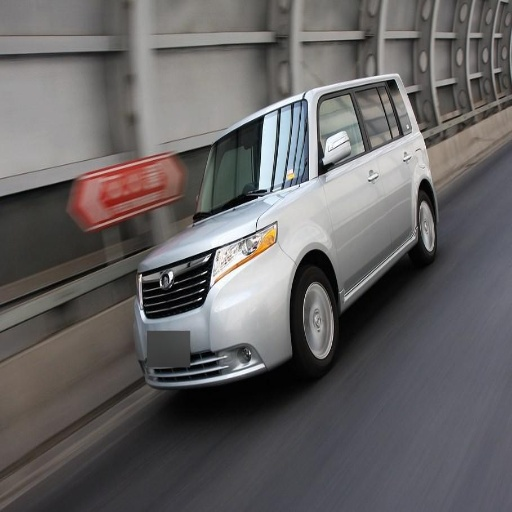front_left_door: (331, 123, 395, 291)
